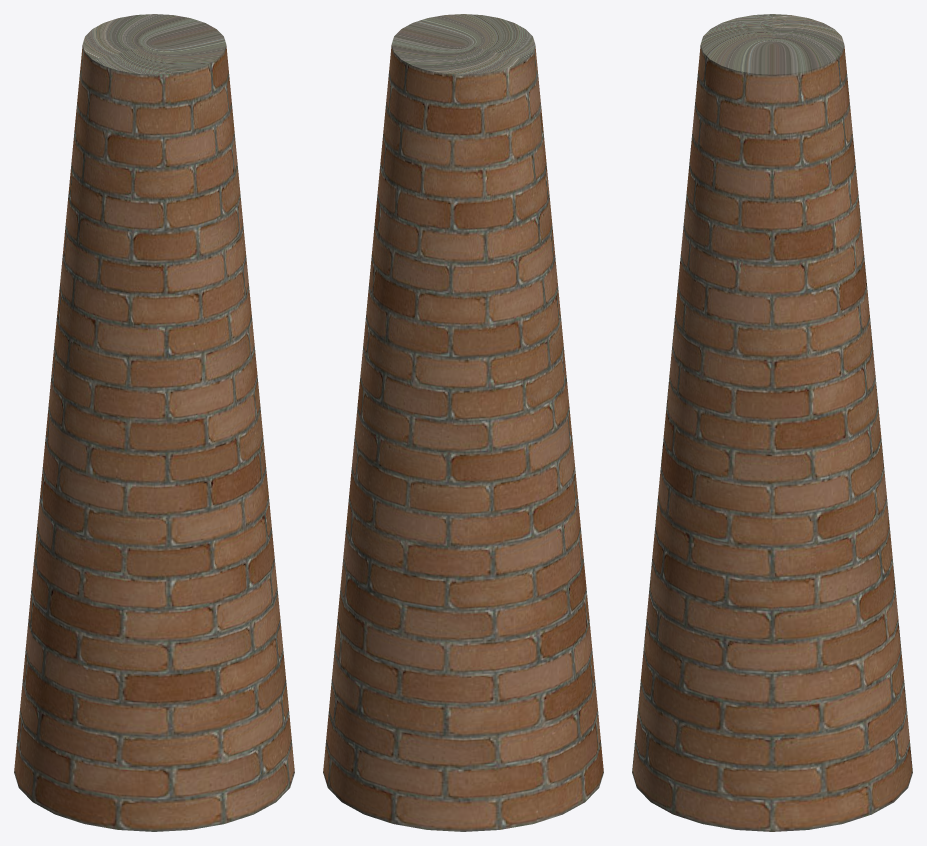
The model's file is debrisb2.fbx.
3 views of the same model, side by side, from view 1: azimuth 30°, elevation 25°; view 2: azimuth 150°, elevation 25°; view 3: azimuth 270°, elevation 25° (orthographic).
Visible parts, largest first — view 1: Cone01; view 2: Cone01; view 3: Cone01.
Part boxes in pixels (left/top/right/bottom): Cone01: left=14, top=14, right=294, bottom=831; Cone01: left=323, top=14, right=603, bottom=831; Cone01: left=632, top=14, right=912, bottom=831.
Size of the model in its own units: 698 by 1998 by 698.
Materials: 1 (1 with a texture image).
